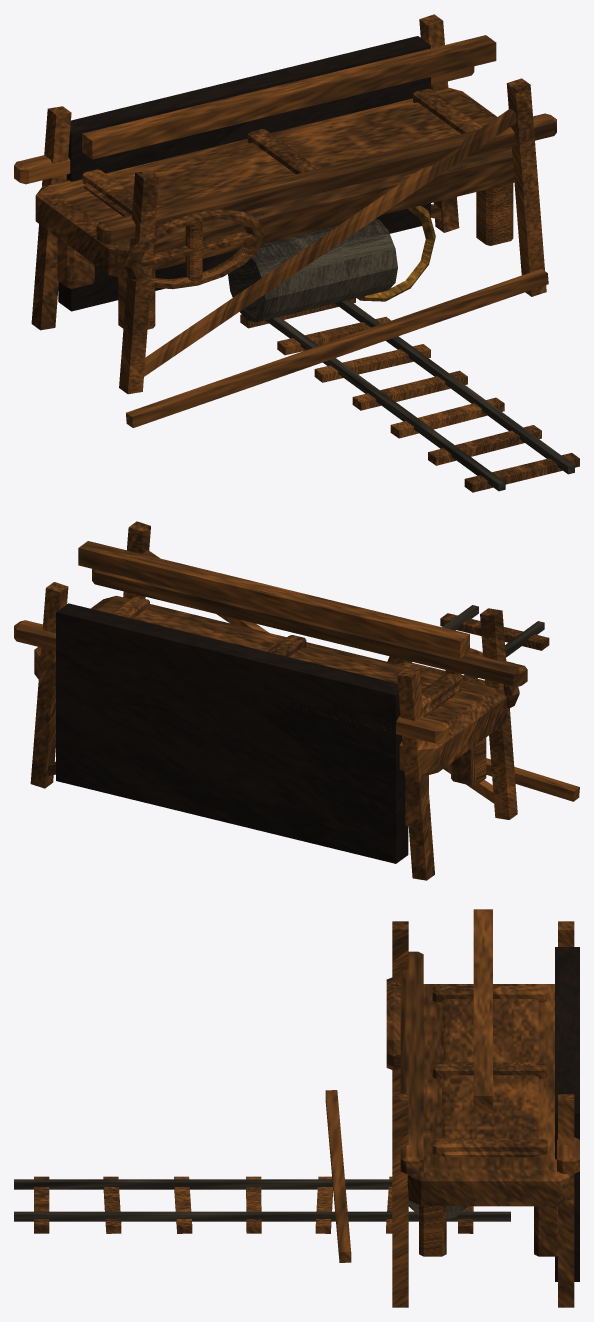
The model's file is flooded-gallery.glb.
The picture shows the model from 3 angles, top to bottom: view 1: azimuth 30°, elevation 25°; view 2: azimuth 150°, elevation 25°; view 3: azimuth 270°, elevation 25°; orthographic projection. The views are drawn at different scales.
Visible parts, largest first — view 1: flooded-gallery; view 2: flooded-gallery; view 3: flooded-gallery.
Part boxes in pixels (left/top/right/bottom): flooded-gallery: left=14, top=14, right=579, bottom=492; flooded-gallery: left=14, top=521, right=579, bottom=880; flooded-gallery: left=14, top=909, right=579, bottom=1307.
Size of the model in its own units: 7.41 by 3.35 by 8.2.
Materials: 1 (1 with a texture image).
